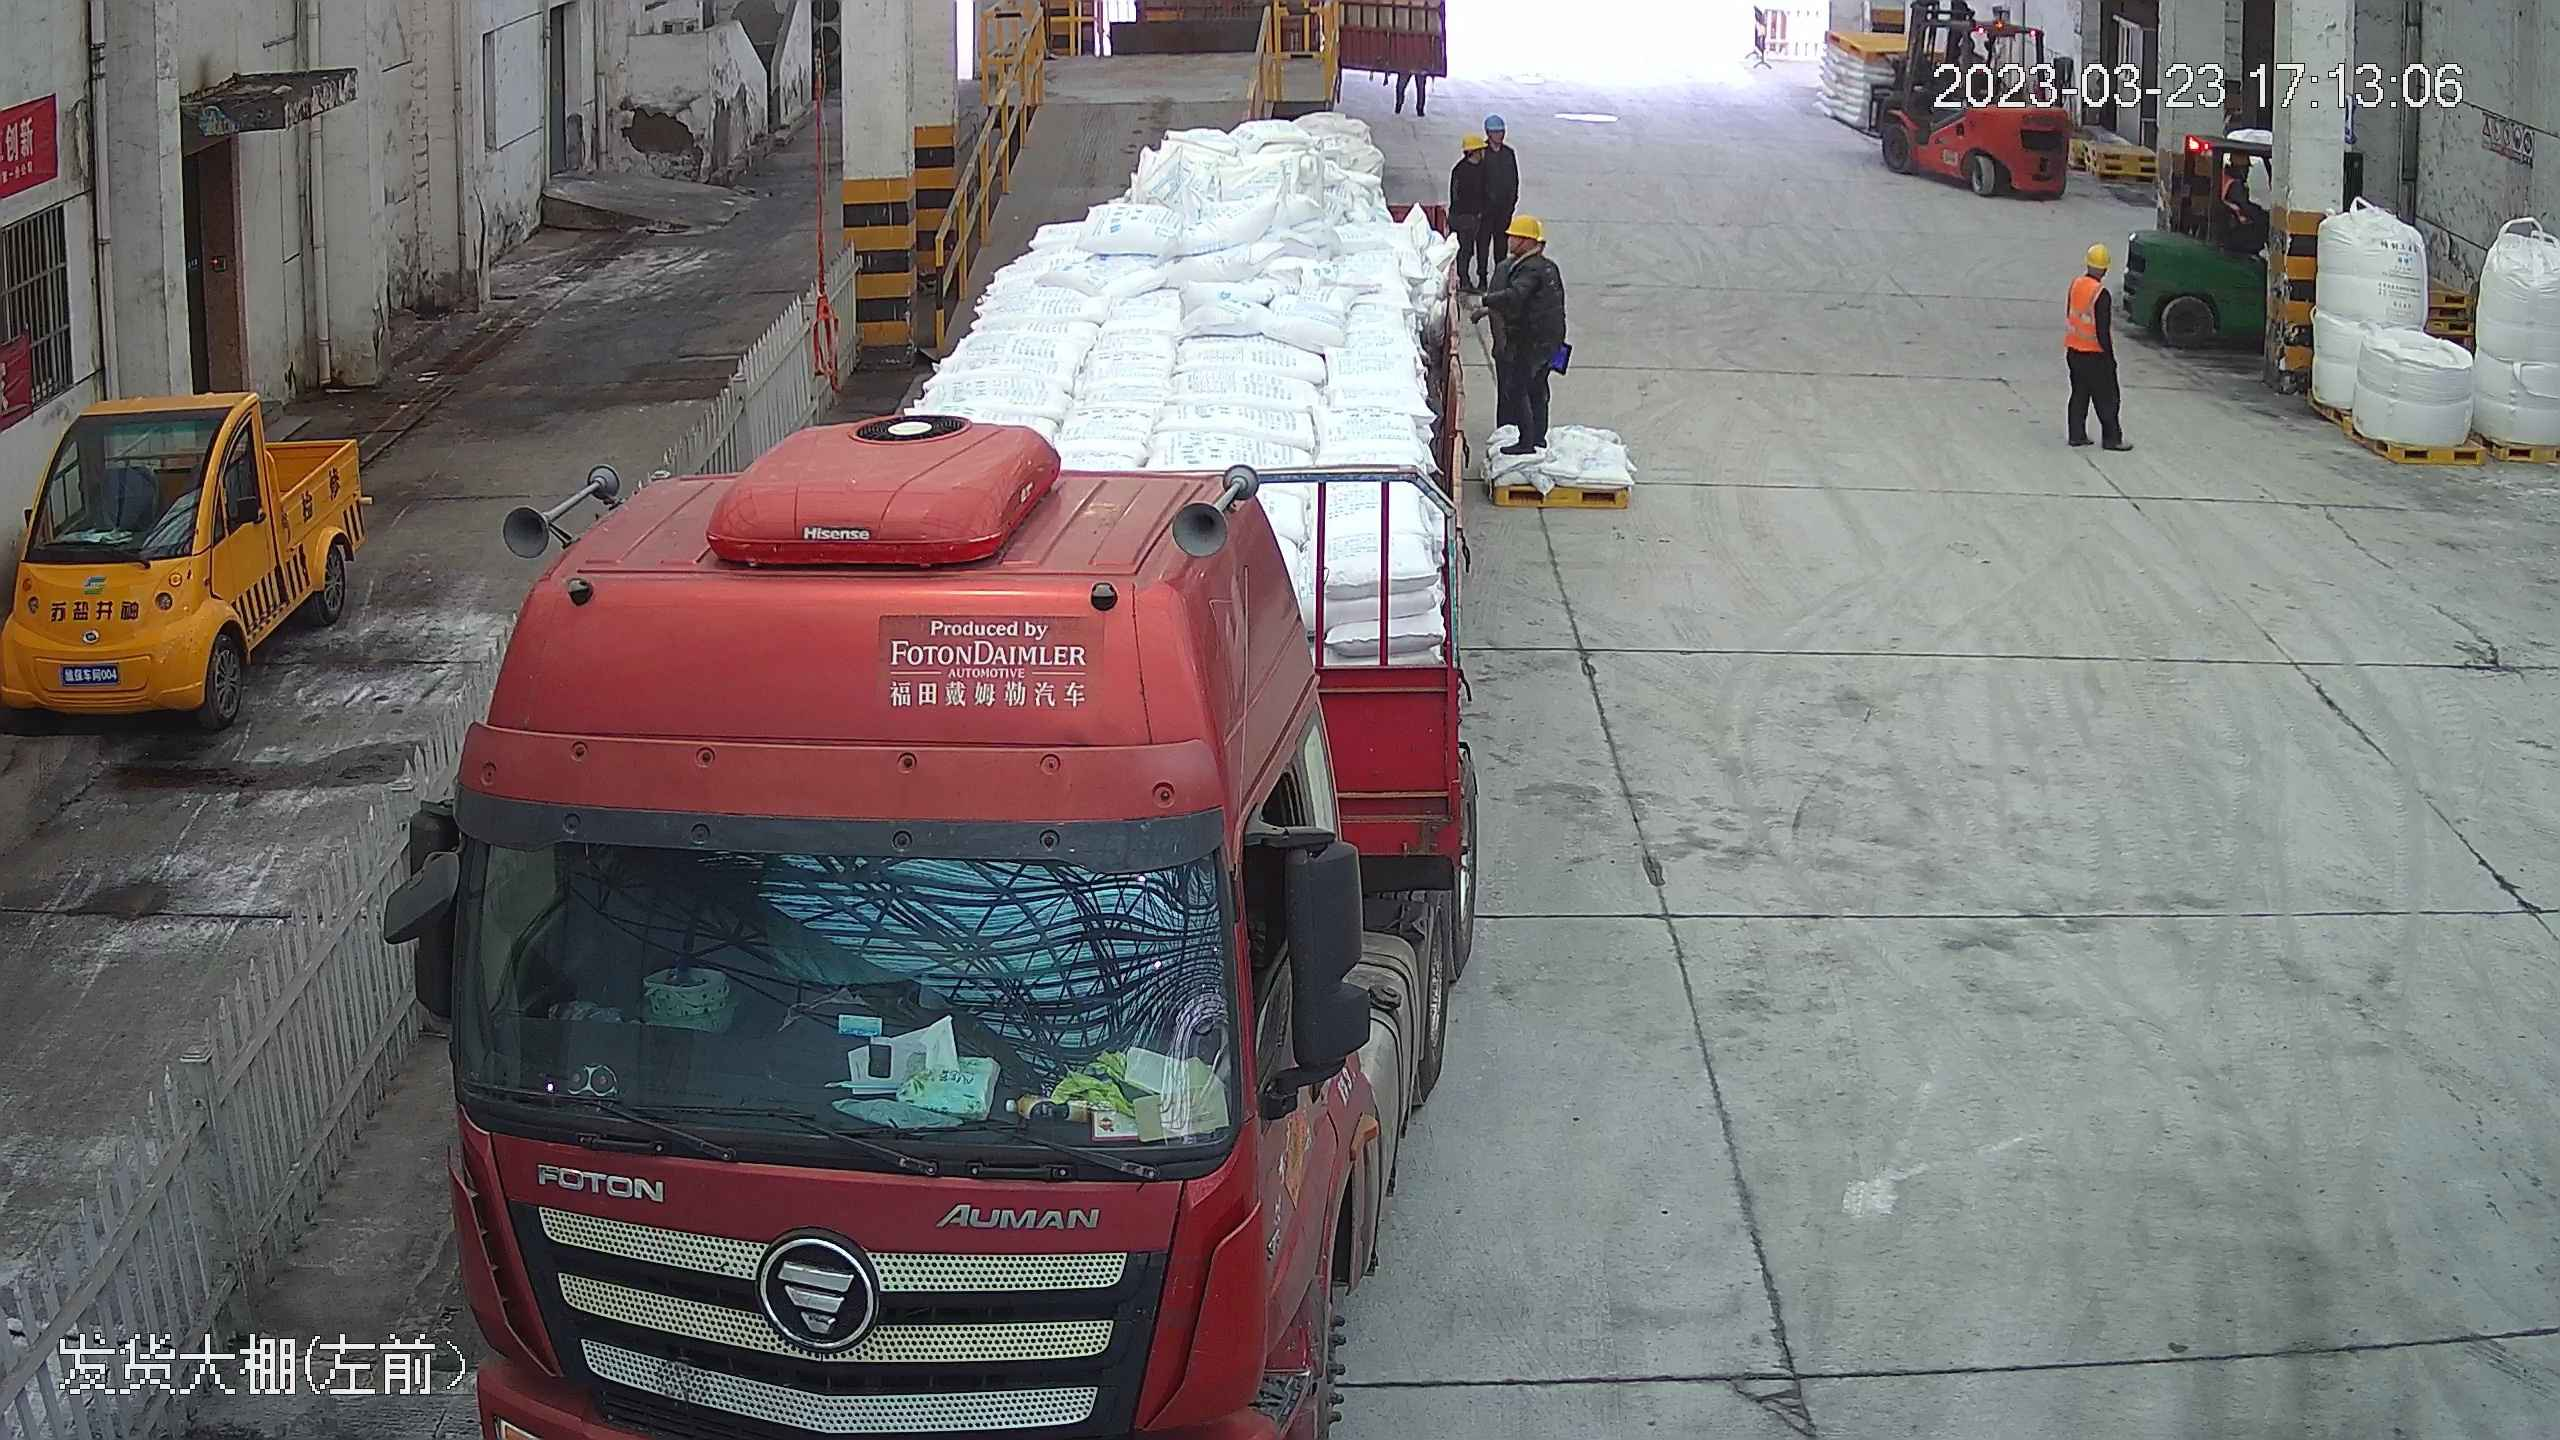head: (1495, 212, 1564, 292), (2065, 239, 2122, 310), (1451, 126, 1509, 180), (1482, 113, 1520, 172)
helmet: (1509, 212, 1550, 239), (2082, 239, 2116, 268), (1461, 126, 1496, 150), (1483, 113, 1505, 134), (2229, 151, 2252, 170)
people: (1484, 210, 1576, 466), (2059, 232, 2133, 456), (1442, 119, 1517, 282)
truck: (385, 14, 1505, 1440)
